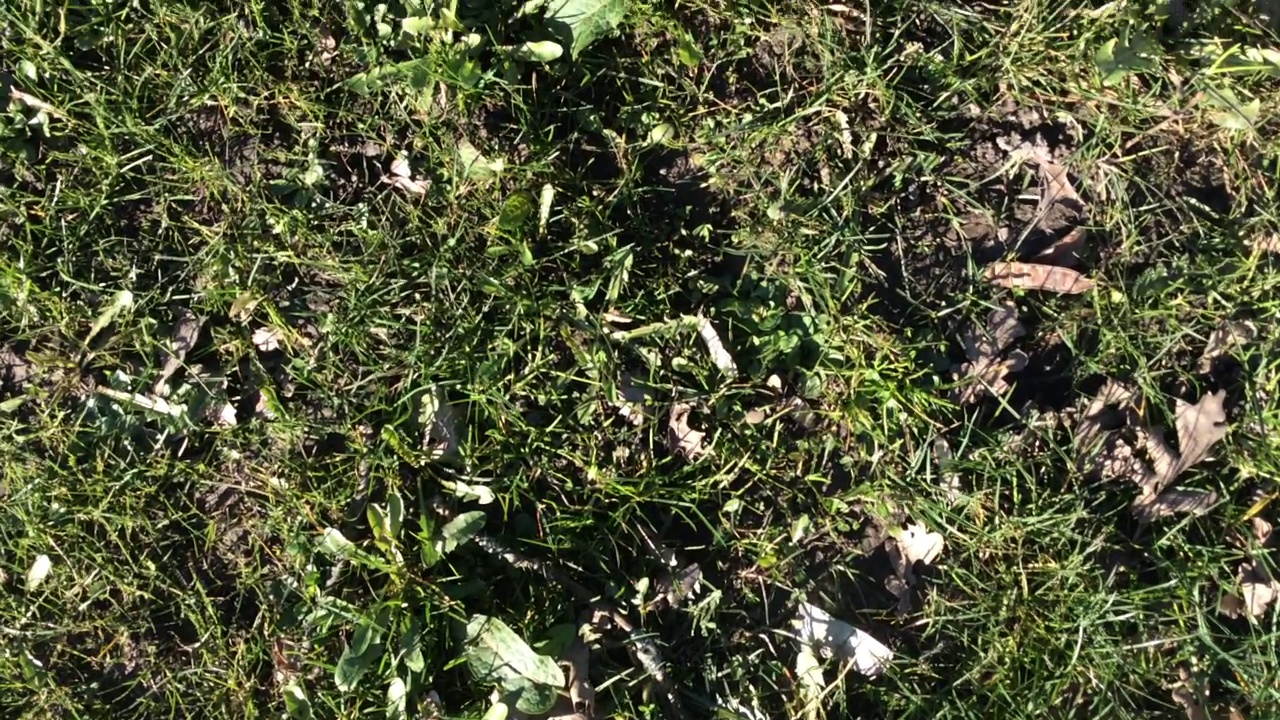rumex: (449, 611, 563, 715), (505, 1, 631, 63)
